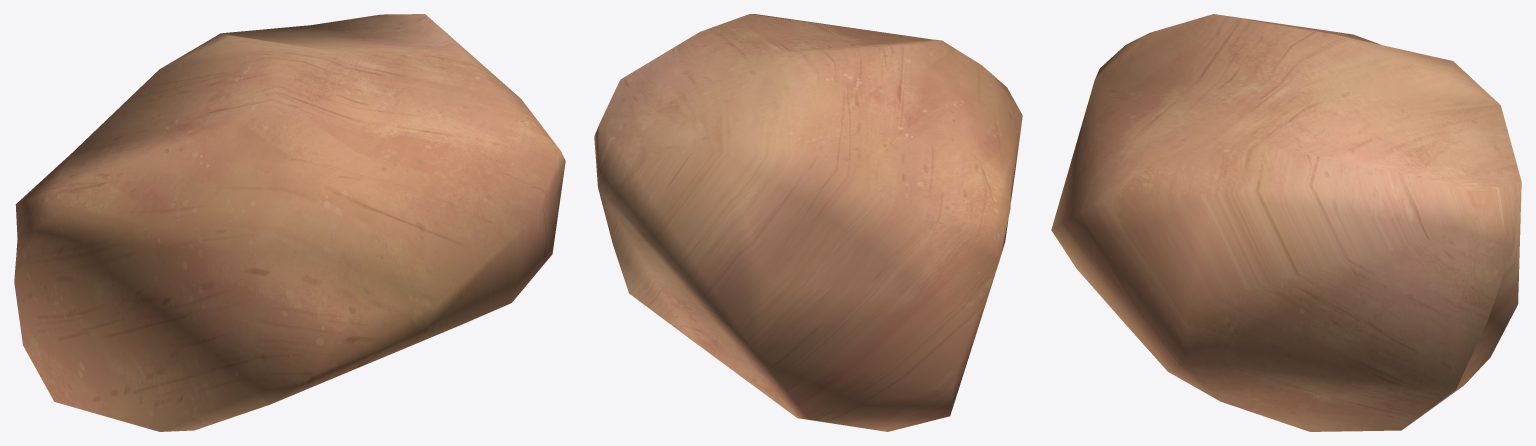
The model's file is rock_1_015.fbx.
The picture shows the model from 3 angles, left to right: view 1: azimuth 30°, elevation 25°; view 2: azimuth 150°, elevation 25°; view 3: azimuth 270°, elevation 25°; orthographic projection. The views are drawn at different scales.
Visible parts, largest first — view 1: rock 1.015; view 2: rock 1.015; view 3: rock 1.015.
Part boxes in pixels (x1=…): rock 1.015: x1=14, y1=14, x2=565, y2=431; rock 1.015: x1=594, y1=14, x2=1022, y2=431; rock 1.015: x1=1051, y1=14, x2=1521, y2=431.
Size of the model in its own units: 797 by 610 by 678.
